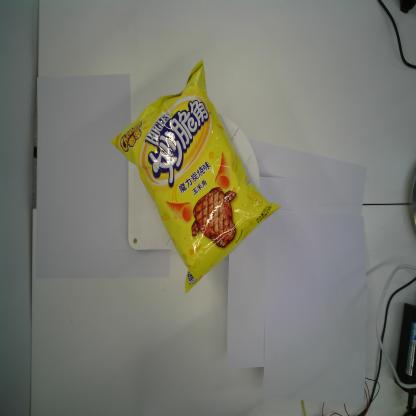Puffed Food: (110, 58, 282, 296)
